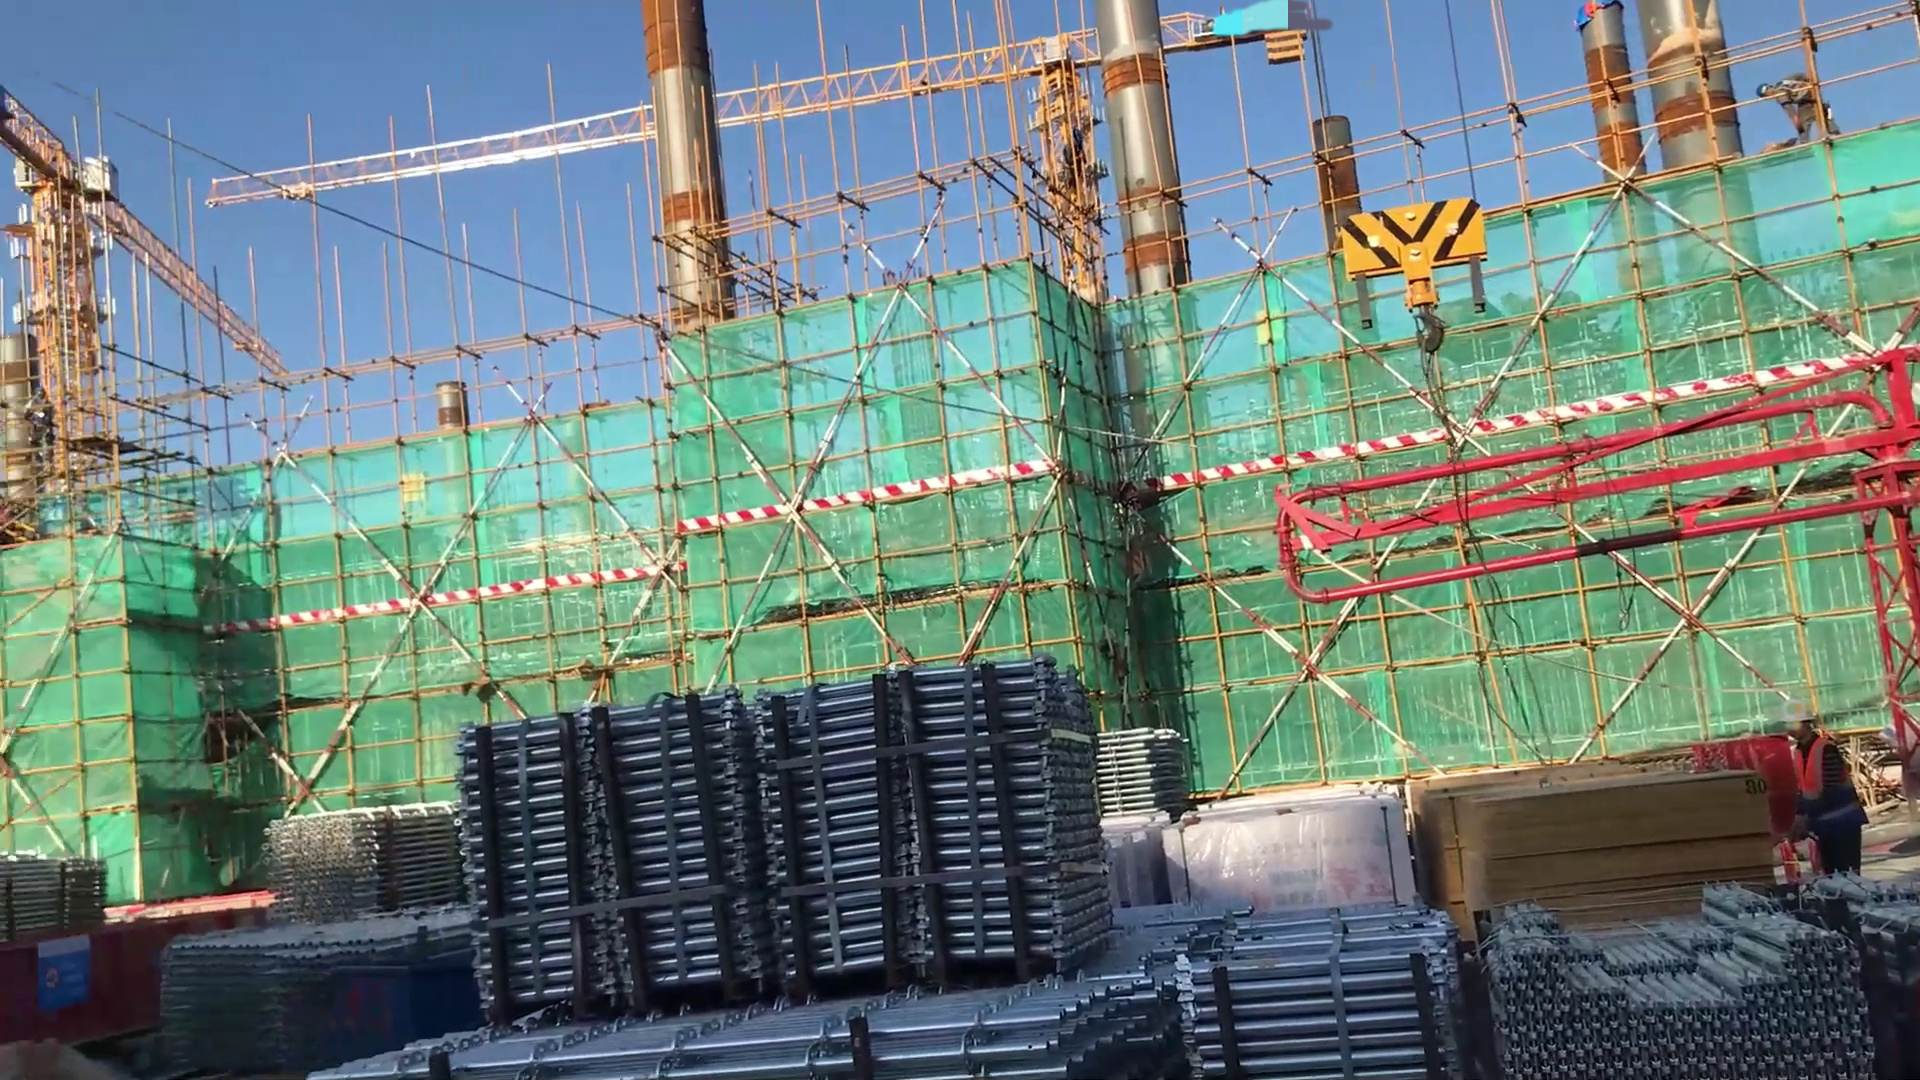board: (1412, 777, 1780, 931)
helmet: (1775, 699, 1825, 724)
hook: (1308, 188, 1505, 402)
person: (1780, 702, 1870, 878), (1758, 67, 1858, 163)
scaffold: (459, 645, 1100, 1020), (152, 895, 461, 1080), (268, 791, 465, 937), (1, 846, 126, 932)
slogan: (44, 928, 100, 1017)
vest: (1791, 736, 1864, 831)
